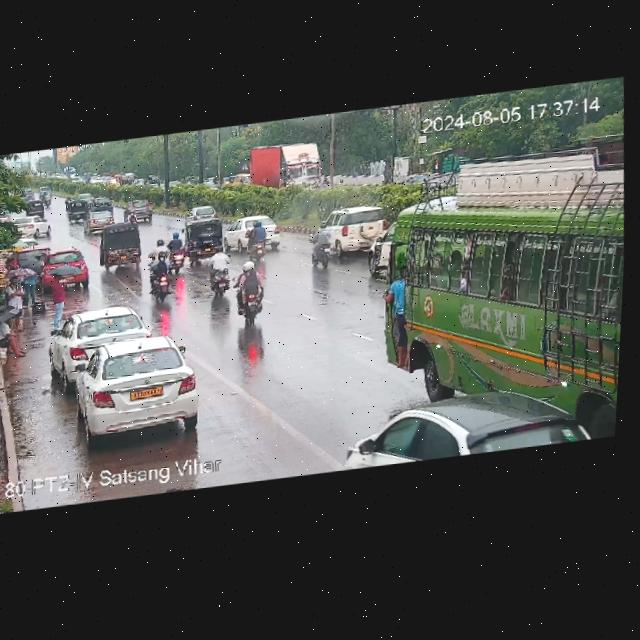bus: (379, 142, 630, 408)
car: (346, 380, 609, 469), (71, 330, 204, 440), (49, 302, 151, 374), (324, 201, 394, 258), (32, 245, 90, 293), (96, 221, 146, 274), (226, 211, 282, 254), (181, 216, 226, 261), (368, 221, 393, 275), (9, 214, 53, 242), (85, 208, 117, 234), (126, 197, 156, 223), (15, 243, 48, 264), (65, 198, 89, 223), (187, 204, 218, 222), (93, 194, 113, 212), (26, 199, 46, 216), (79, 191, 93, 203)
motorcycle: (307, 222, 342, 272), (167, 232, 193, 270), (246, 220, 270, 259), (127, 208, 140, 222), (43, 193, 53, 207), (64, 196, 72, 209)
person: (0, 313, 32, 362), (49, 271, 68, 332), (7, 274, 23, 319), (22, 263, 38, 306)
truck: (248, 138, 329, 200)
